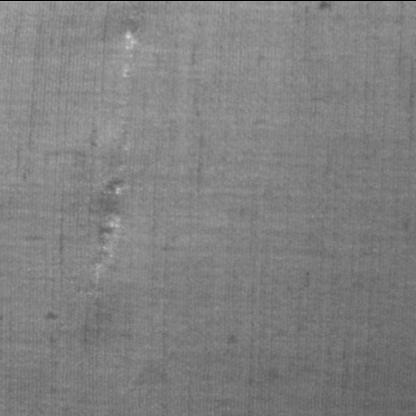thread error: (90, 18, 148, 291)
